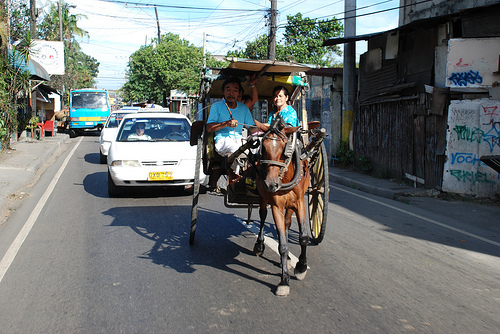horse: (249, 116, 312, 298)
